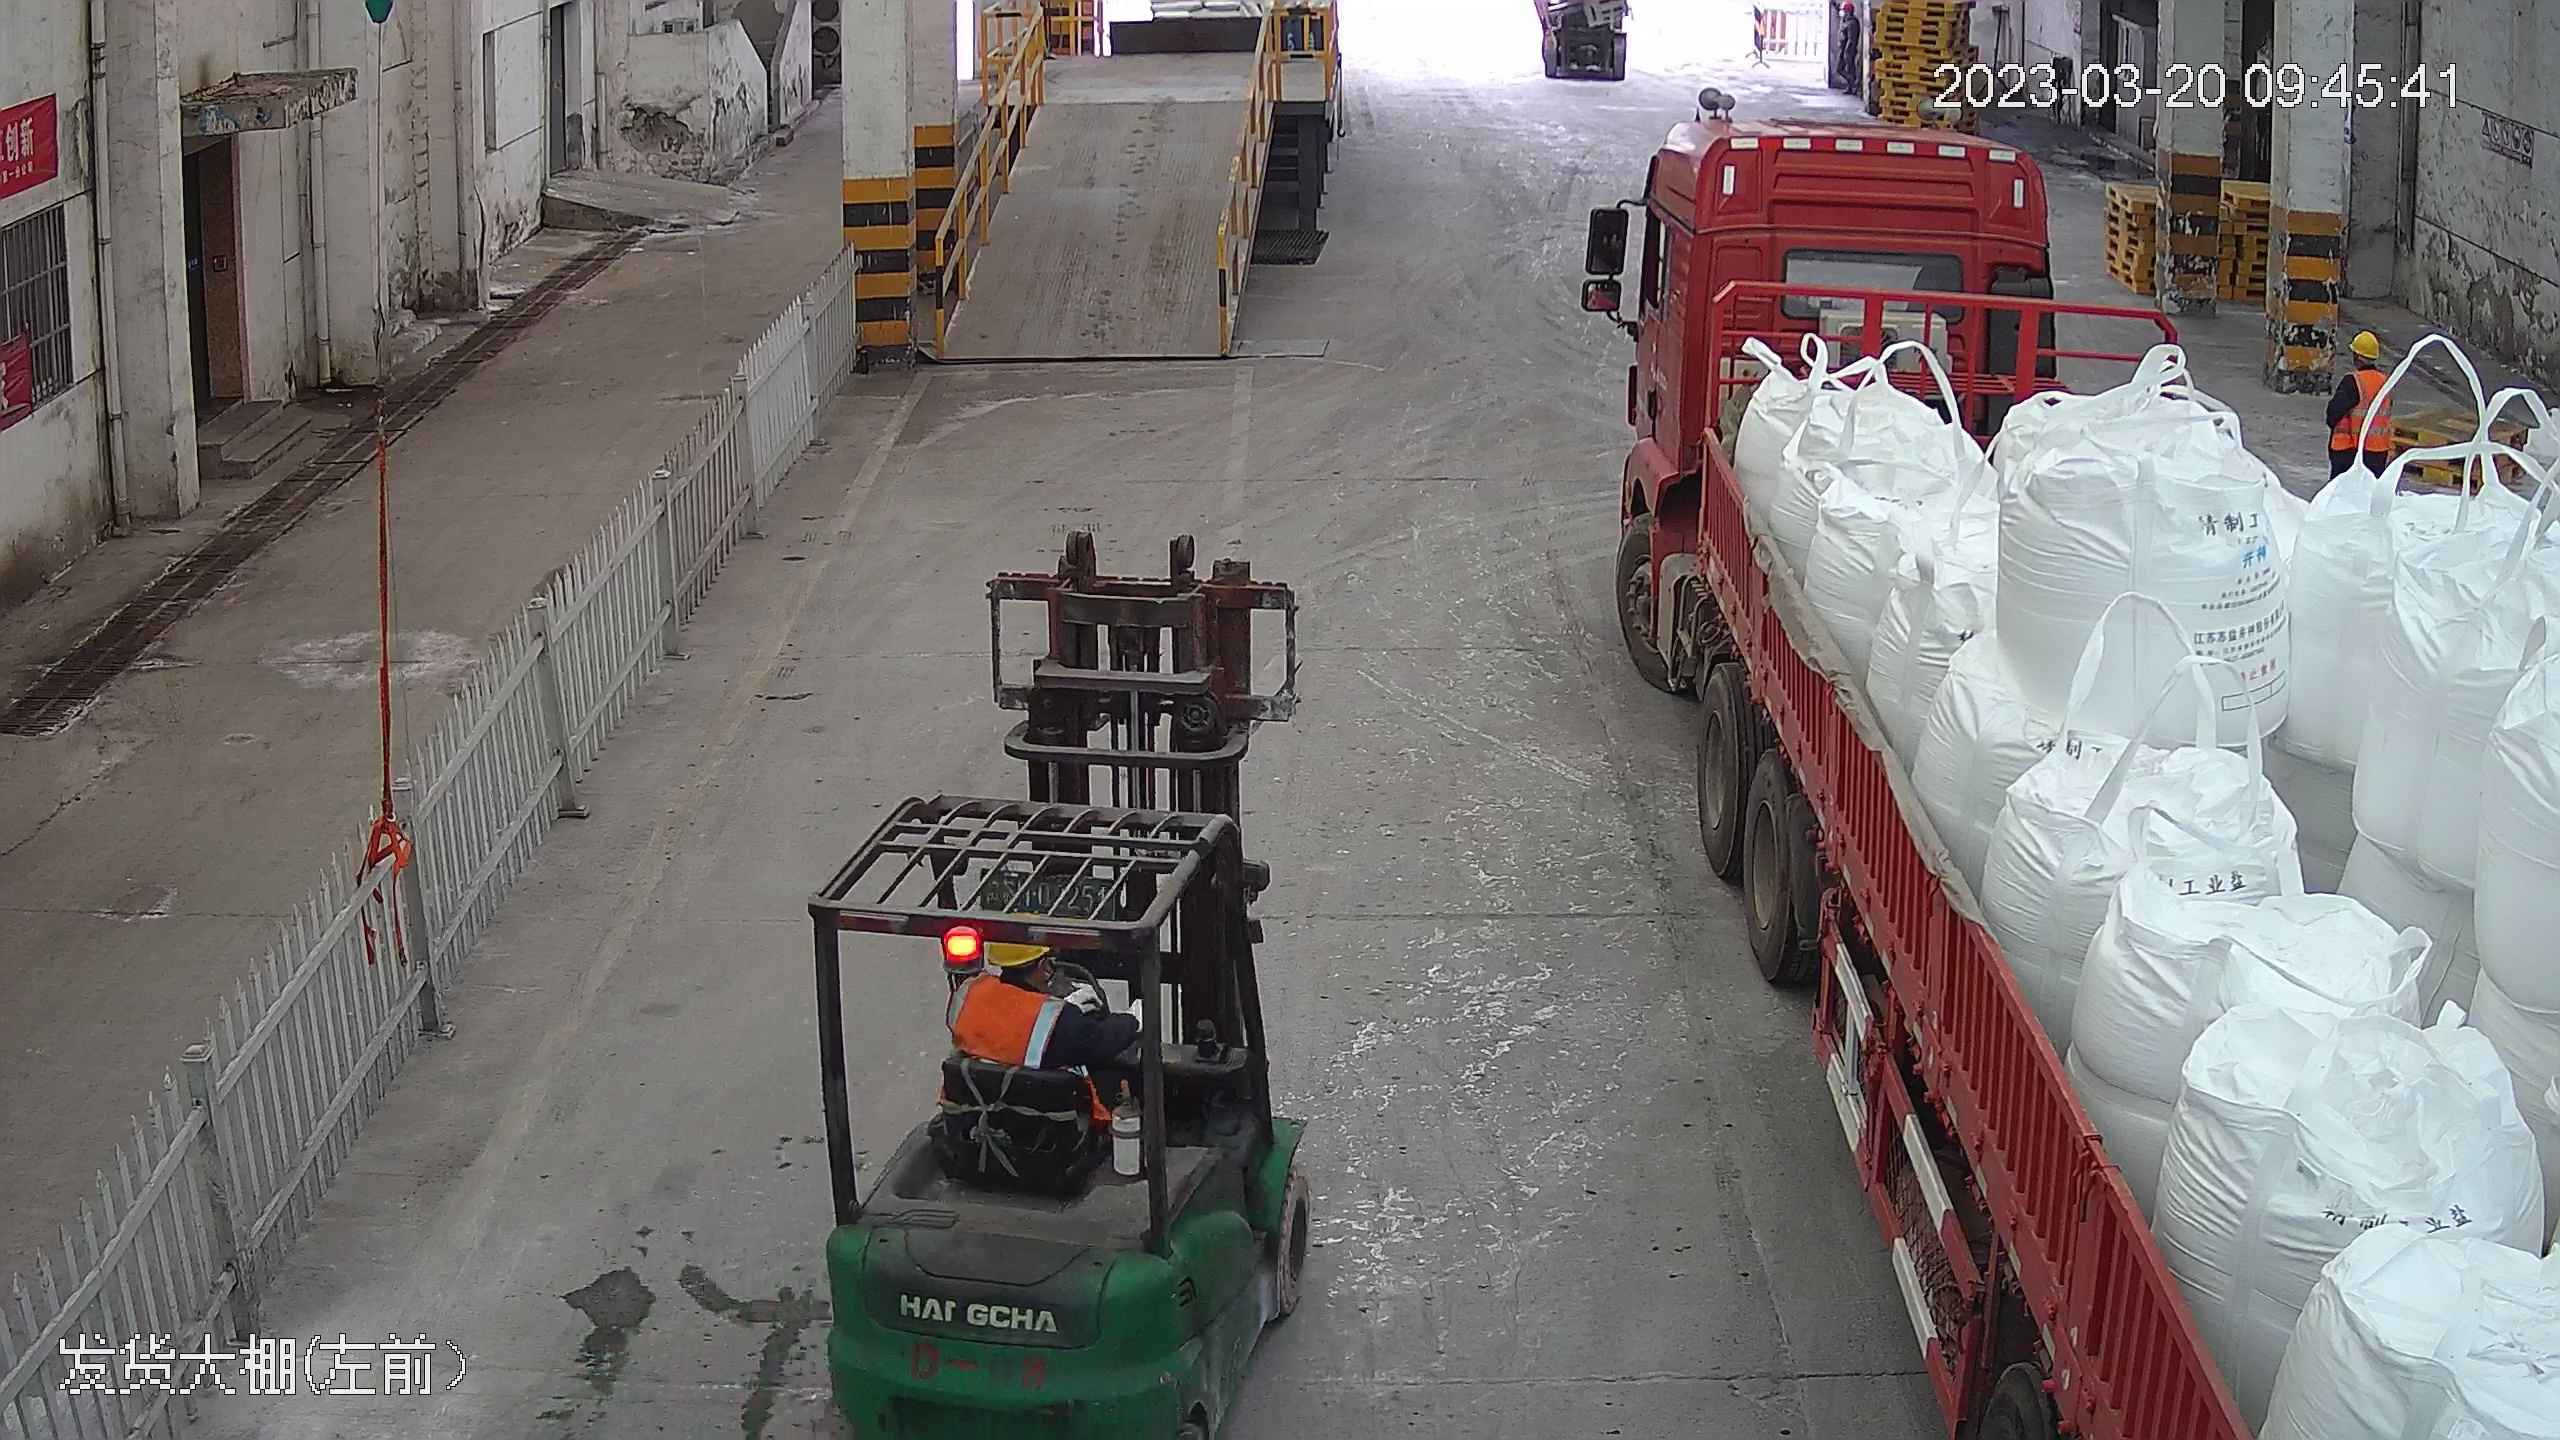head: (943, 922, 1072, 1052), (2331, 326, 2390, 404)
helmet: (979, 933, 1051, 973), (2345, 327, 2385, 357)
people: (2323, 323, 2395, 488)
truck: (1598, 94, 2560, 1440)
